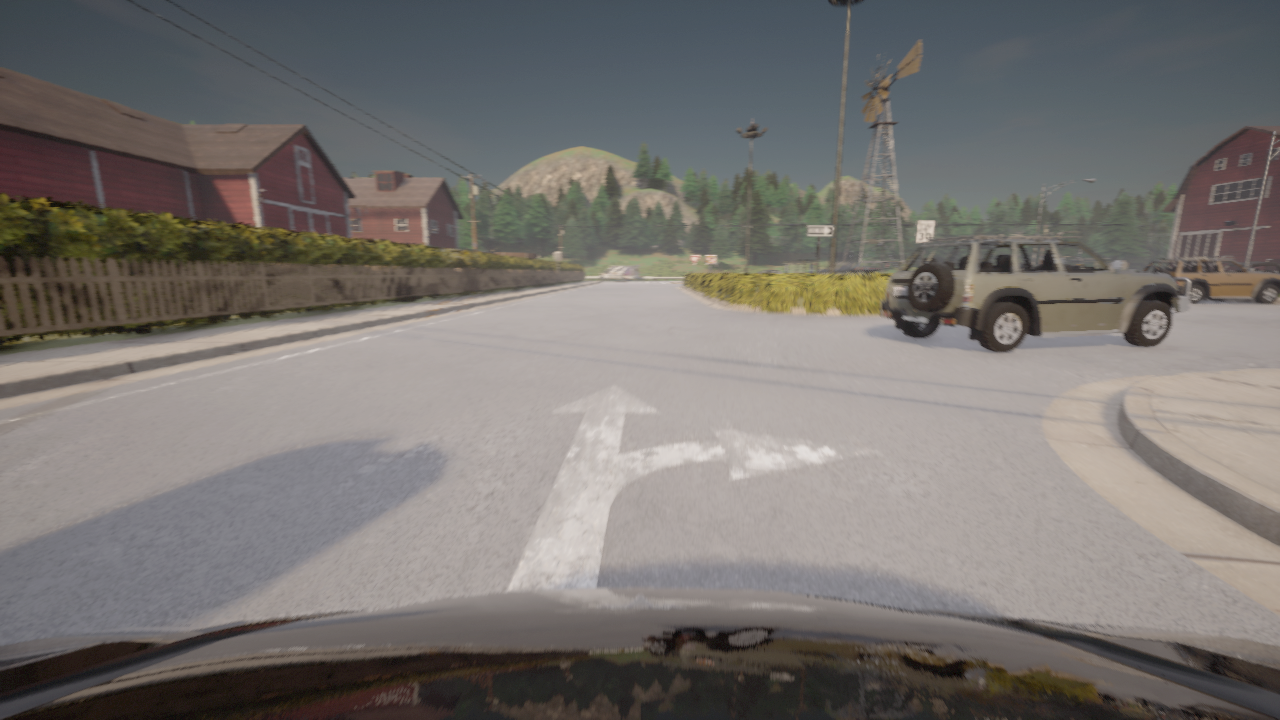cyclist: (0, 588, 1279, 719), (880, 231, 1190, 352), (1142, 256, 1279, 303), (598, 265, 640, 281), (819, 263, 878, 273), (1239, 262, 1279, 274), (758, 270, 782, 272), (1103, 258, 1110, 263)
